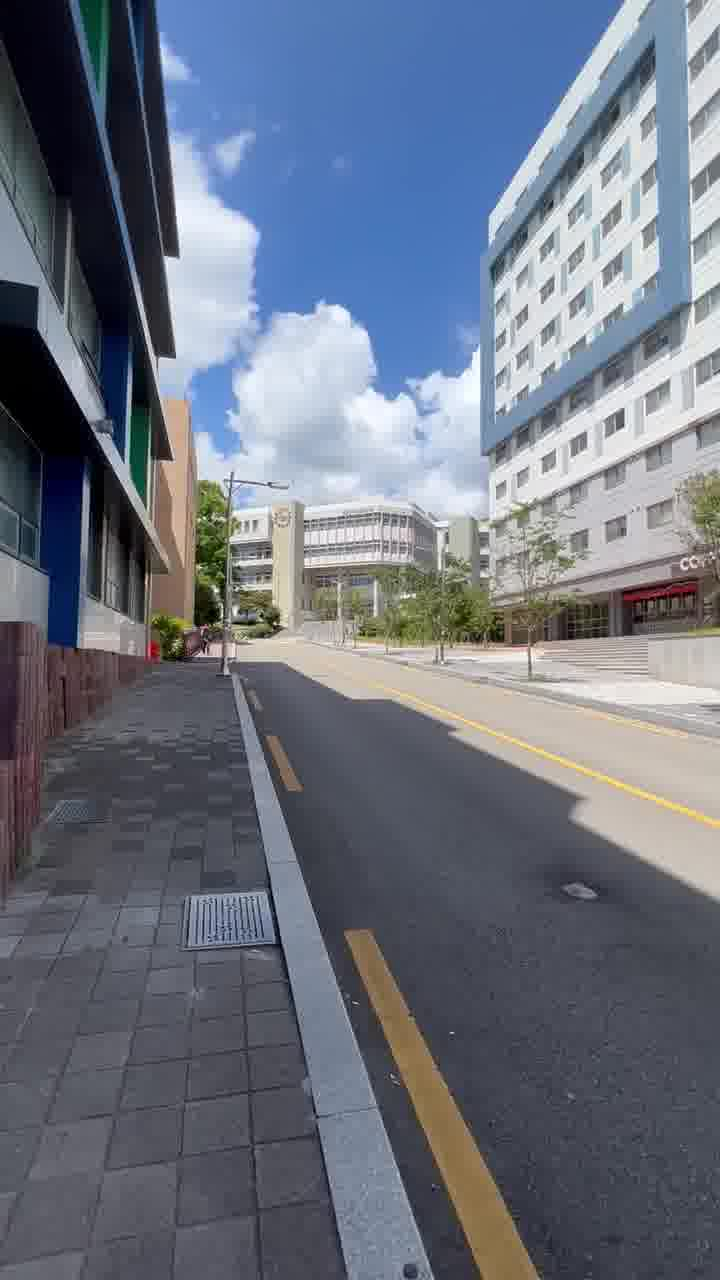low: (242, 480, 476, 584)
